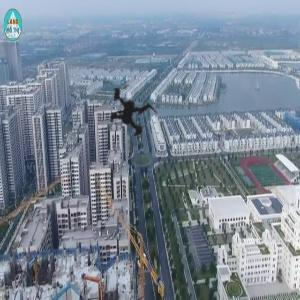drone: (59, 36, 208, 185)
